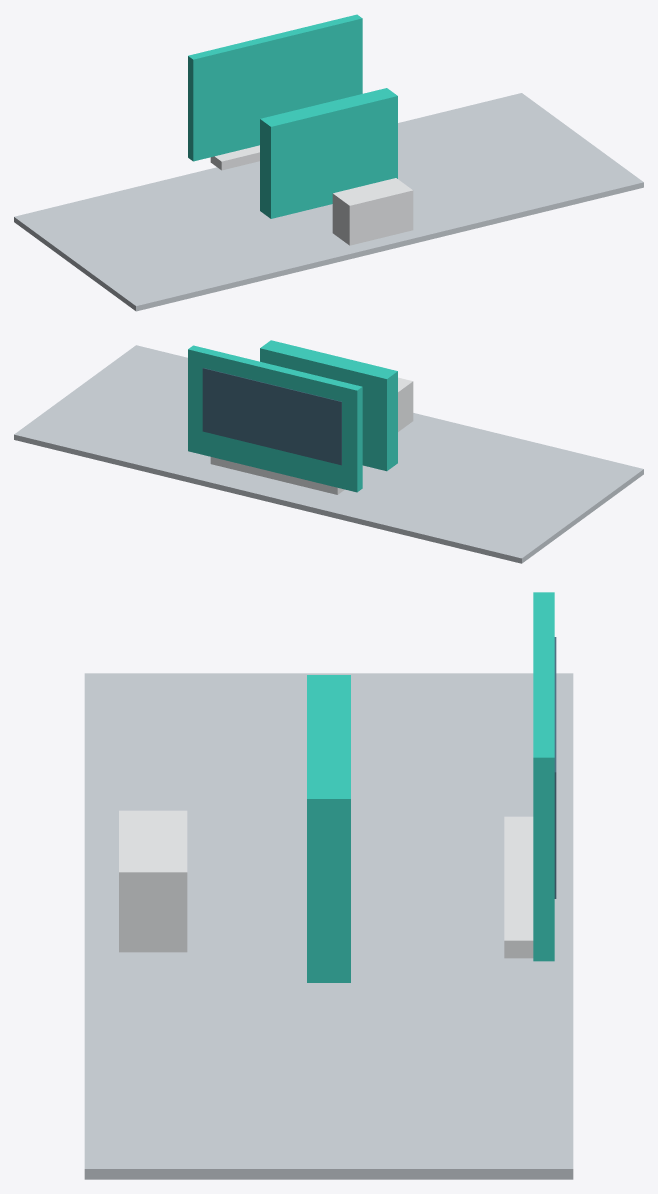
3 renders of one model, top to bottom at view 1: azimuth 30°, elevation 25°; view 2: azimuth 150°, elevation 25°; view 3: azimuth 270°, elevation 25°, orthographic. The views are drawn at different scales.
Visible parts, largest first — view 1: Exhibition Booth Concept; view 2: Exhibition Booth Concept; view 3: Exhibition Booth Concept.
Part boxes in pixels (x1,y1,x2,y2): Exhibition Booth Concept: (14, 14, 643, 311); Exhibition Booth Concept: (14, 340, 643, 563); Exhibition Booth Concept: (84, 592, 573, 1179).
Size of the model in its own units: 12 by 2.9 by 5.
